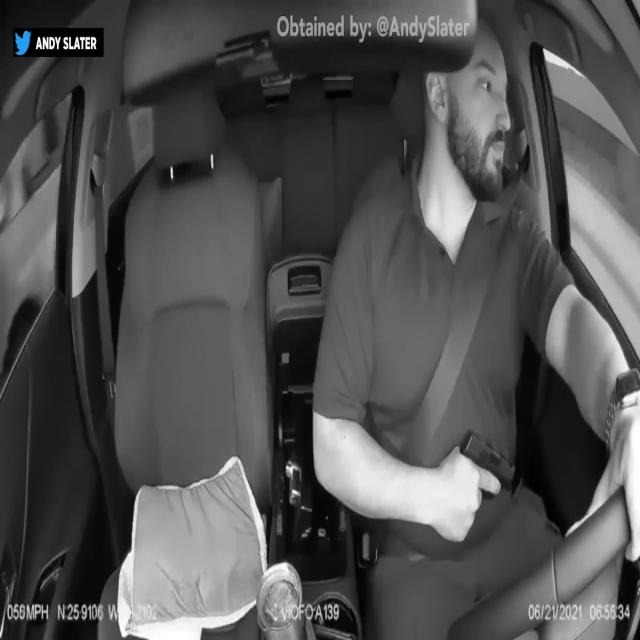senjata_api: (461, 429, 516, 498)
